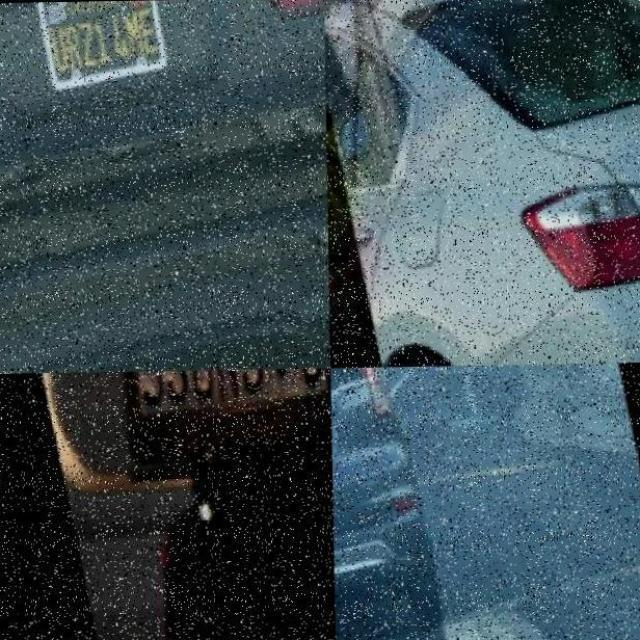license-plate: (145, 362, 335, 468), (43, 7, 184, 95)
